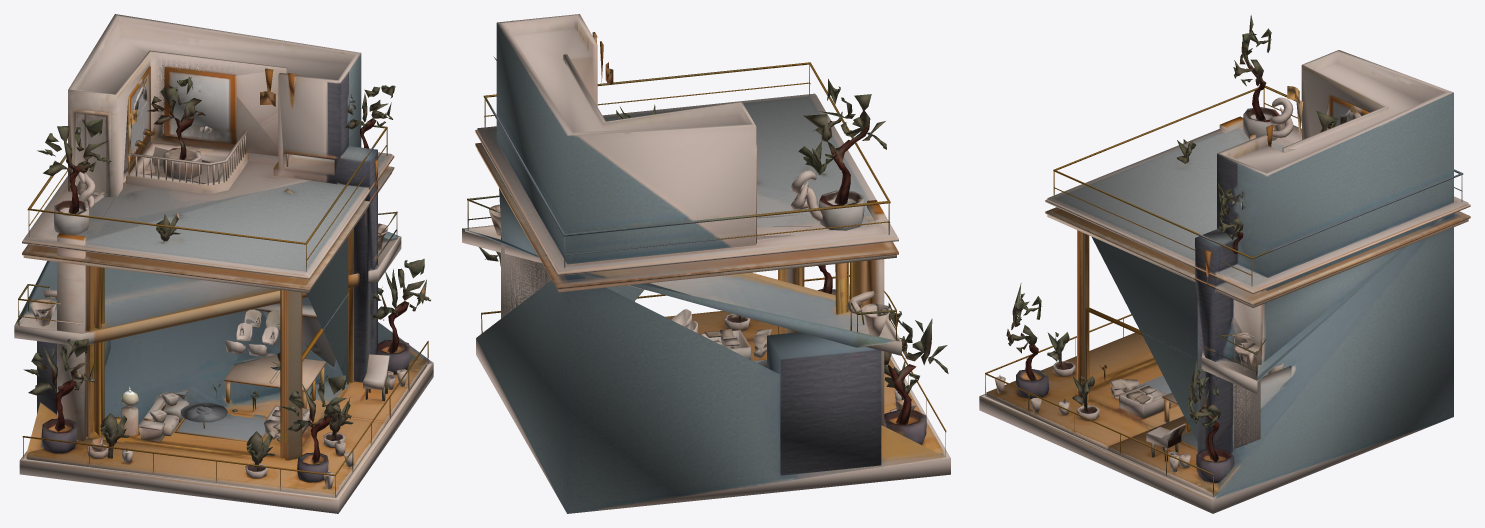
File: tier4-lv19.glb
The picture shows the model from 3 angles, left to right: view 1: azimuth 30°, elevation 25°; view 2: azimuth 150°, elevation 25°; view 3: azimuth 270°, elevation 25°; orthographic projection. The views are drawn at different scales.
Visible parts, largest first — view 1: tripo_node_12817bb6-716b-4cf2-af33-d5bf1aadaadc; view 2: tripo_node_12817bb6-716b-4cf2-af33-d5bf1aadaadc; view 3: tripo_node_12817bb6-716b-4cf2-af33-d5bf1aadaadc.
Boxes of the visible parts, bbox=[...] form: tripo_node_12817bb6-716b-4cf2-af33-d5bf1aadaadc: bbox=[14, 14, 433, 513]; tripo_node_12817bb6-716b-4cf2-af33-d5bf1aadaadc: bbox=[462, 14, 950, 513]; tripo_node_12817bb6-716b-4cf2-af33-d5bf1aadaadc: bbox=[979, 15, 1470, 513].
Size of the model in its own units: 1.31 by 0.9902 by 1.36.
Materials: 1 (1 with a texture image).
